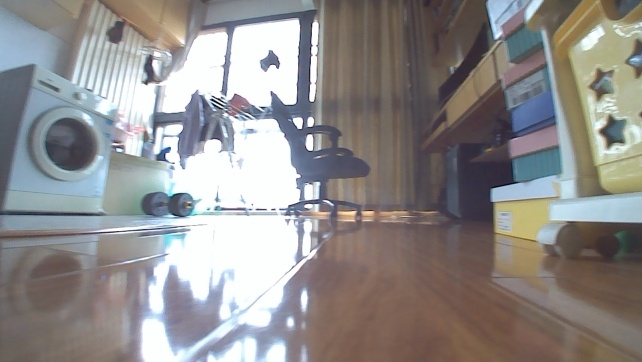washing_machine: (0, 60, 123, 215)
